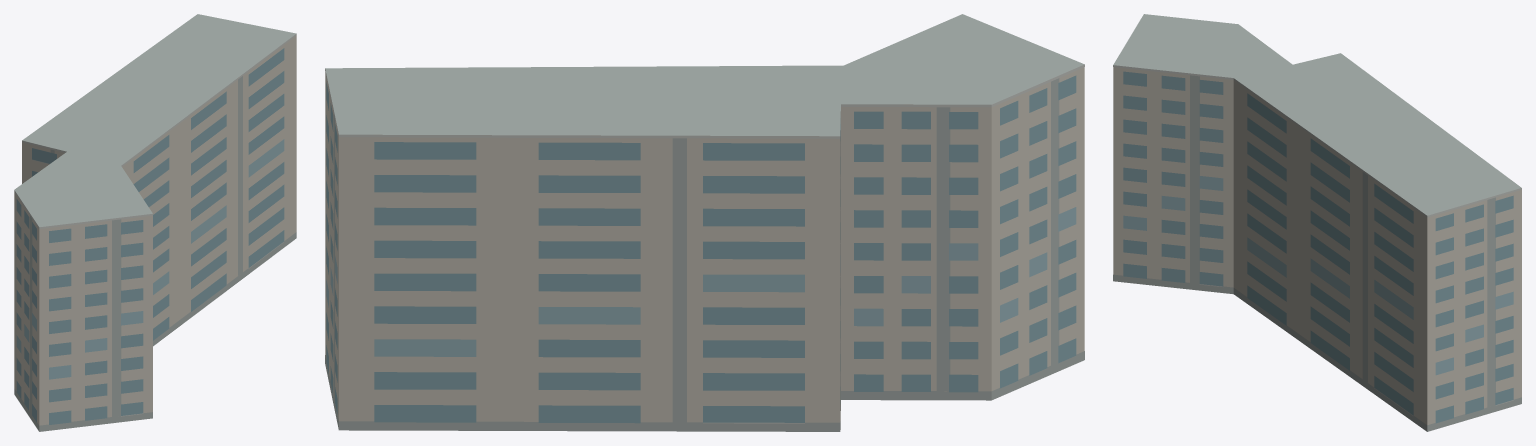
File: residential-d172f28b-a11e-41e1-b060-9c4b576e69d7.glb
3 renders of one model, left to right at view 1: azimuth 30°, elevation 25°; view 2: azimuth 150°, elevation 25°; view 3: azimuth 270°, elevation 25°, orthographic. The views are drawn at different scales.
Parts seen in each view (by area): view 1: residential-d172f28b-a11e-41e1-b060-9c4b576e69d7.tmp; view 2: residential-d172f28b-a11e-41e1-b060-9c4b576e69d7.tmp; view 3: residential-d172f28b-a11e-41e1-b060-9c4b576e69d7.tmp.
Boxes of the visible parts, box(x1,y1,x2,y2) form: residential-d172f28b-a11e-41e1-b060-9c4b576e69d7.tmp: box(14, 14, 296, 431); residential-d172f28b-a11e-41e1-b060-9c4b576e69d7.tmp: box(325, 14, 1084, 431); residential-d172f28b-a11e-41e1-b060-9c4b576e69d7.tmp: box(1113, 14, 1521, 431).
Bounding box in the file's own units: 54.96 × 27.45 × 47.04.
